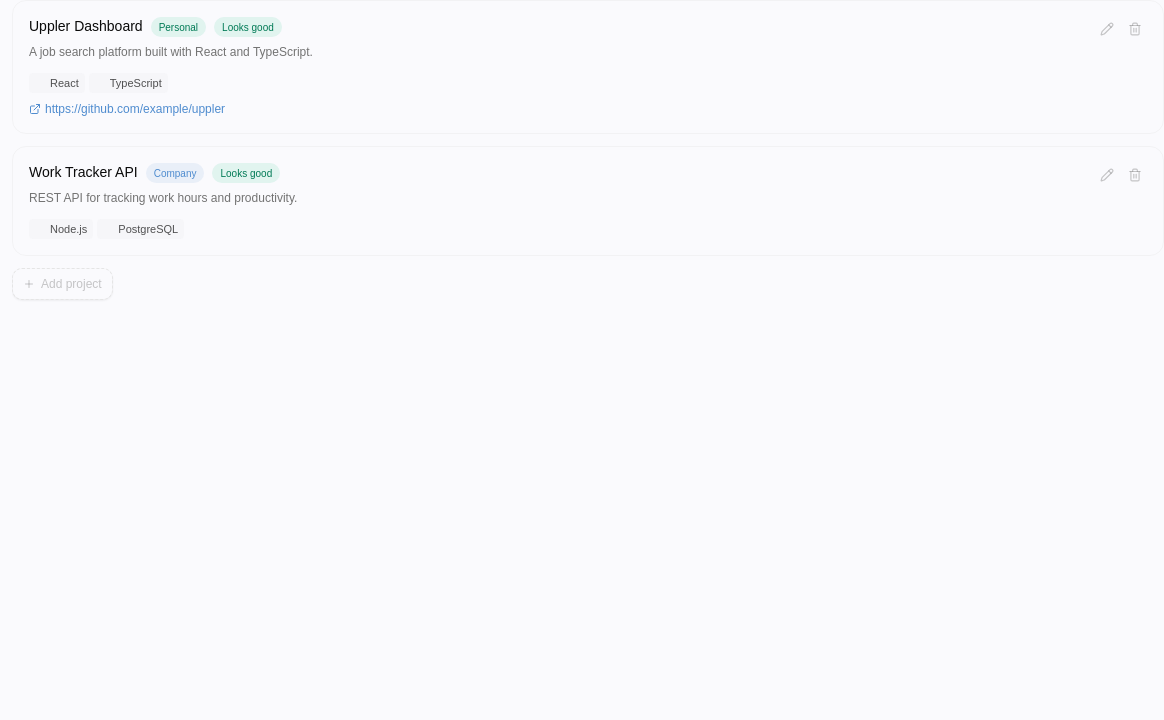
Test: ReviewProjectsSection — edit › opens edit form when edit button is clicked
Click the button named "edit project" in the row of "Personal" at (1107, 29), box [1095,17,1119,41]
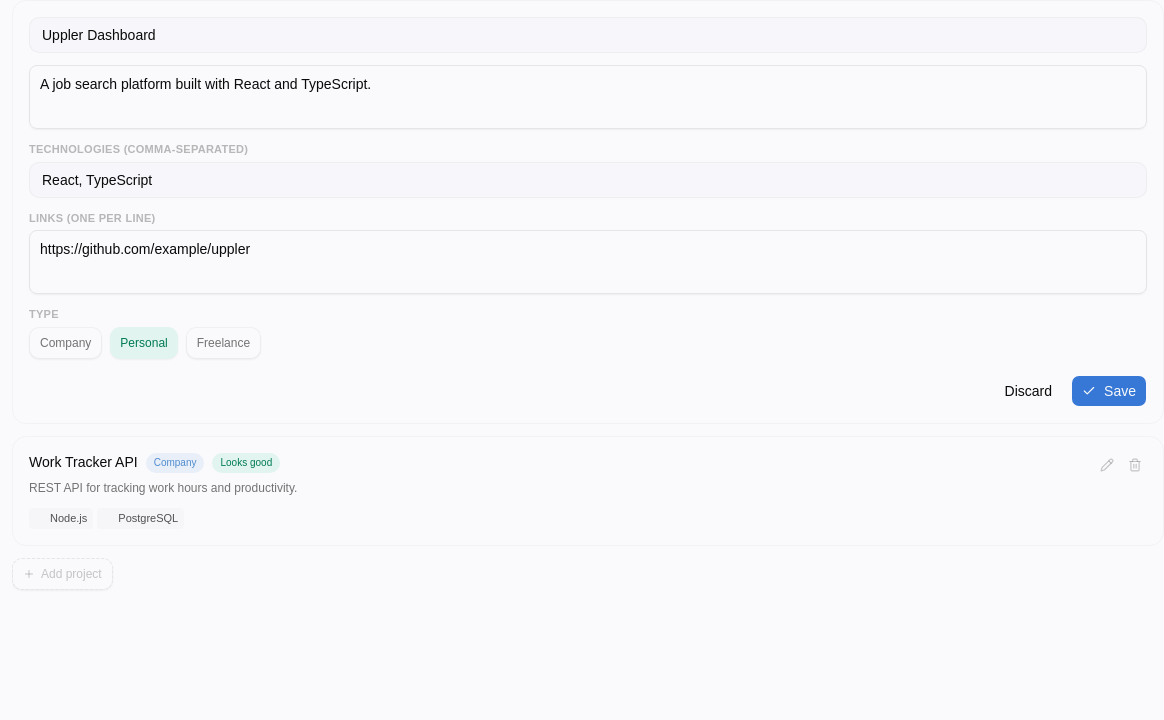
Check: the 1st field showing "Uppler Dashboard" is shown, box [29,17,1147,53]
